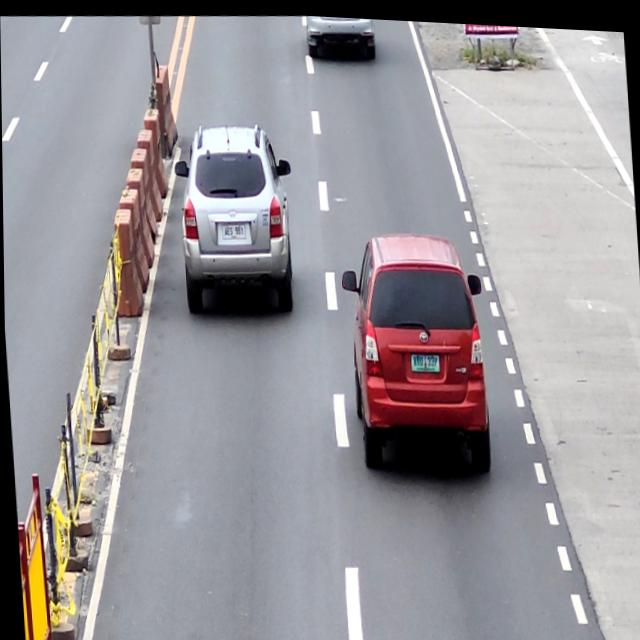Car: (336, 227, 496, 481), (170, 117, 300, 316)
License-Plate: (410, 348, 440, 371), (220, 220, 246, 238)
